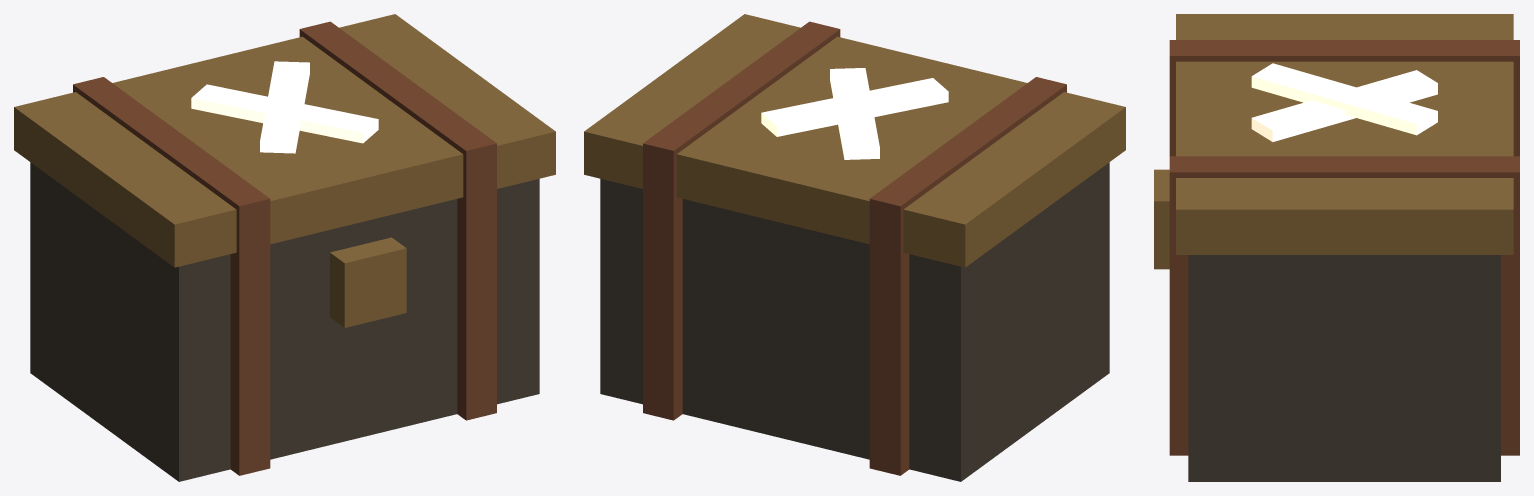
Rendered from sealed_box_medical.glb.
3 views of the same model, side by side, from view 1: azimuth 30°, elevation 25°; view 2: azimuth 150°, elevation 25°; view 3: azimuth 270°, elevation 25° (orthographic). The views are drawn at different scales.
Parts seen in each view (by area): view 1: sealed_box_medical; view 2: sealed_box_medical; view 3: sealed_box_medical.
Part boxes in pixels (box(x1,y1,x2,y2)): sealed_box_medical: box(14, 14, 555, 481); sealed_box_medical: box(584, 14, 1125, 481); sealed_box_medical: box(1154, 14, 1519, 481).
Bounding box in the file's own units: 0.74 × 0.522 × 0.585.
